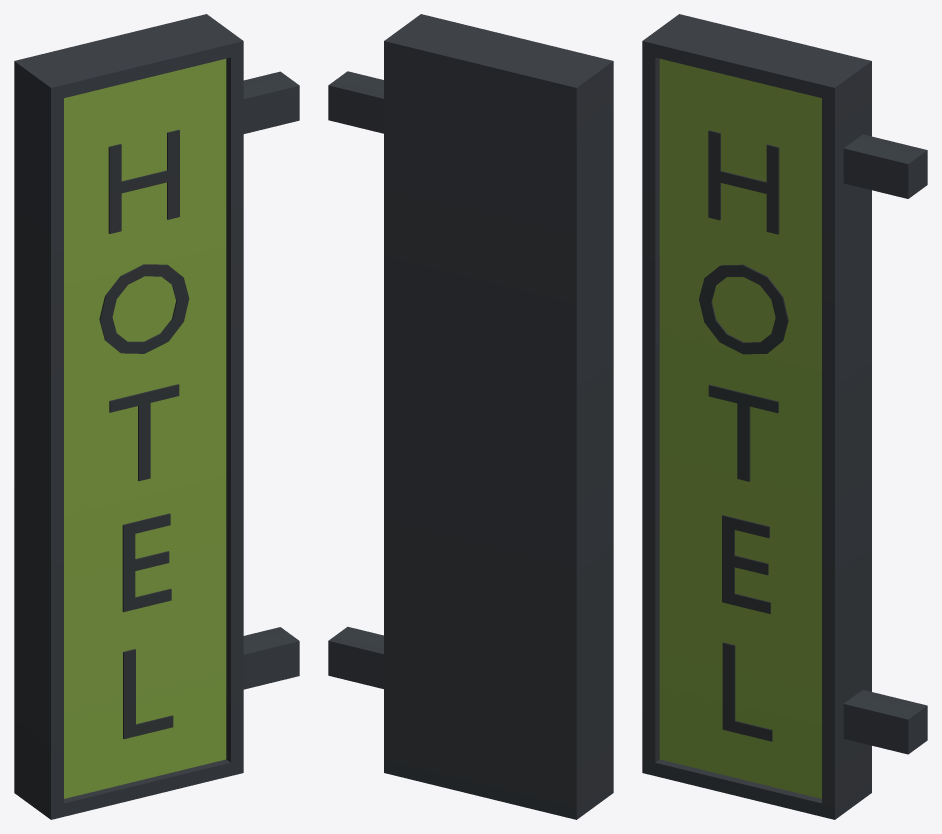
The model's file is Banner_02.fbx.
3 renders of one model, left to right at view 1: azimuth 30°, elevation 25°; view 2: azimuth 150°, elevation 25°; view 3: azimuth 330°, elevation 25°, orthographic.
Visible parts, largest first — view 1: Banner_02; view 2: Banner_02; view 3: Banner_02.
Part boxes in pixels (x1,y1,x2,y2): Banner_02: (14,14,299,819); Banner_02: (328,14,613,819); Banner_02: (642,14,927,819).
Bounding box in the file's own units: 1.13 × 3.06 × 0.2801.
